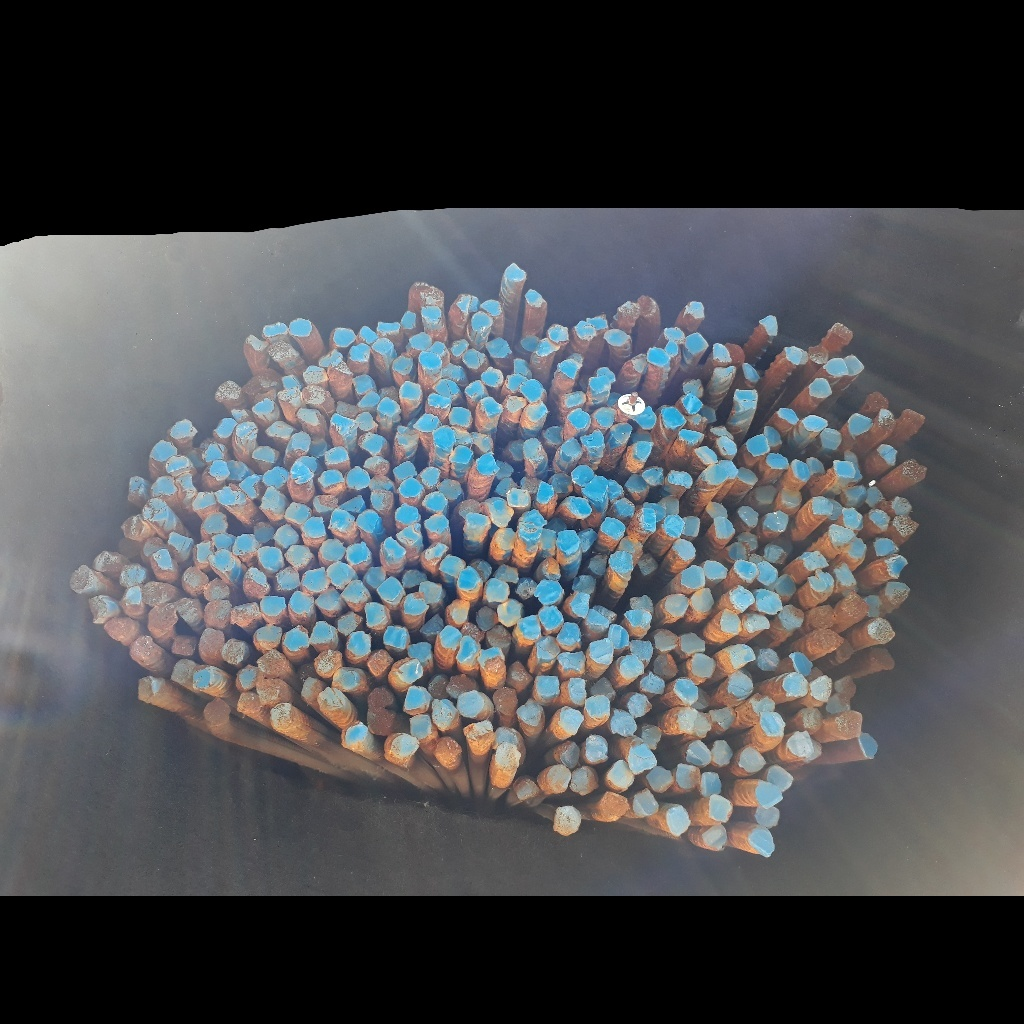dipstick: (464, 720, 495, 754), (244, 368, 281, 396), (88, 594, 121, 623), (364, 707, 396, 736), (665, 804, 692, 838), (627, 745, 658, 774), (434, 737, 462, 769), (432, 698, 459, 731), (552, 805, 581, 835), (181, 566, 210, 596), (242, 566, 270, 597), (93, 549, 124, 577), (205, 598, 232, 630), (203, 696, 232, 725), (708, 792, 735, 823), (176, 598, 207, 625), (103, 616, 137, 640), (167, 531, 195, 560), (748, 828, 775, 858), (608, 760, 635, 790), (552, 741, 582, 768), (403, 685, 430, 715), (507, 661, 533, 692), (120, 586, 146, 617), (835, 709, 863, 737), (866, 618, 895, 645), (754, 781, 783, 808), (282, 626, 311, 653), (313, 651, 343, 677), (142, 581, 175, 604), (842, 592, 869, 620), (633, 789, 660, 817), (363, 601, 390, 629), (326, 362, 354, 389), (568, 769, 597, 795), (257, 650, 286, 676), (326, 561, 356, 586), (149, 549, 174, 579), (625, 472, 649, 503), (647, 766, 674, 793), (456, 691, 483, 718), (150, 603, 177, 630), (69, 564, 96, 591), (755, 589, 783, 615), (478, 647, 506, 673), (343, 578, 369, 606), (547, 764, 572, 793), (302, 566, 331, 591), (639, 671, 666, 697), (583, 474, 609, 501), (517, 700, 544, 726), (270, 702, 296, 729), (257, 545, 283, 572), (177, 598, 203, 625), (588, 638, 613, 666), (517, 614, 542, 642), (489, 499, 514, 527), (535, 580, 564, 604), (496, 600, 522, 626), (367, 650, 393, 676), (256, 678, 282, 704), (285, 542, 311, 568), (782, 672, 809, 697), (760, 710, 785, 737), (727, 673, 754, 698), (661, 405, 686, 432), (710, 706, 737, 731), (686, 740, 711, 767), (493, 686, 518, 713), (130, 634, 155, 661), (738, 748, 766, 772), (728, 644, 756, 668), (674, 678, 698, 706), (626, 694, 654, 718), (601, 791, 629, 815), (302, 677, 326, 705), (140, 497, 168, 521), (816, 628, 845, 651), (446, 674, 475, 697), (884, 581, 910, 606), (787, 731, 812, 757), (767, 766, 793, 791), (779, 604, 805, 629), (691, 653, 716, 679), (653, 652, 678, 678), (536, 636, 561, 662), (585, 736, 610, 762), (345, 465, 370, 491), (261, 487, 286, 513), (231, 600, 257, 625), (170, 658, 196, 683), (255, 624, 282, 648), (220, 640, 247, 664), (232, 532, 259, 556), (318, 688, 346, 711), (203, 577, 231, 600), (891, 514, 920, 536), (330, 413, 359, 435), (202, 512, 231, 534), (331, 669, 361, 690), (848, 412, 873, 437), (200, 630, 225, 655), (808, 570, 834, 594), (599, 515, 625, 539), (590, 677, 616, 701), (611, 712, 637, 736), (559, 709, 583, 735), (439, 624, 463, 650), (214, 380, 240, 404), (873, 645, 896, 672), (834, 562, 857, 589), (829, 523, 856, 546), (640, 723, 663, 750), (483, 579, 510, 602), (318, 470, 345, 493), (150, 438, 177, 461), (557, 649, 586, 670), (265, 418, 294, 439), (903, 458, 928, 482), (719, 610, 743, 635), (664, 594, 689, 618), (703, 824, 728, 848), (676, 763, 700, 788), (632, 507, 656, 532), (557, 529, 581, 554), (539, 605, 563, 630), (496, 742, 520, 767), (383, 625, 408, 649), (398, 658, 423, 682), (276, 566, 301, 590), (234, 664, 258, 689), (171, 633, 196, 657), (754, 805, 780, 828), (555, 622, 581, 645), (534, 673, 560, 696), (440, 554, 466, 577), (432, 424, 455, 450), (376, 577, 402, 600), (409, 714, 432, 740), (336, 610, 362, 633), (310, 620, 333, 646), (733, 560, 760, 582), (711, 739, 733, 766), (420, 542, 447, 564), (405, 642, 432, 664), (215, 486, 246, 505), (743, 612, 771, 633), (395, 524, 423, 545), (314, 588, 342, 609), (192, 489, 220, 510), (568, 677, 588, 706), (902, 409, 926, 433), (813, 604, 837, 628), (799, 706, 823, 730), (809, 676, 833, 700), (755, 648, 779, 672), (487, 623, 511, 647), (755, 560, 778, 585), (691, 588, 714, 613), (699, 772, 722, 797), (619, 655, 644, 678), (515, 777, 540, 800), (448, 599, 471, 624), (455, 636, 478, 661), (360, 433, 385, 456), (289, 461, 312, 486), (653, 629, 679, 651), (401, 593, 427, 615), (288, 591, 314, 613), (136, 675, 158, 701), (825, 694, 852, 715), (858, 732, 879, 759), (840, 486, 867, 507), (763, 511, 790, 532), (679, 633, 706, 654), (484, 337, 511, 358), (328, 511, 355, 532), (150, 475, 177, 496), (166, 453, 193, 474), (262, 467, 290, 487), (833, 675, 857, 698), (662, 514, 686, 537), (681, 566, 705, 589), (609, 421, 632, 445), (470, 429, 494, 452), (457, 566, 480, 590), (370, 488, 394, 511), (383, 537, 407, 560), (321, 538, 345, 561), (362, 456, 391, 475), (684, 333, 709, 355), (703, 559, 728, 581), (609, 551, 634, 573), (580, 429, 605, 451), (584, 695, 609, 717), (477, 606, 499, 631), (479, 395, 504, 417), (423, 513, 448, 535), (275, 524, 300, 546), (676, 707, 697, 733), (570, 592, 591, 618), (666, 469, 693, 489), (392, 734, 419, 754), (367, 686, 394, 706), (312, 493, 339, 513), (252, 397, 279, 417), (625, 608, 653, 627), (343, 544, 371, 563), (841, 508, 864, 531), (774, 575, 797, 598), (731, 586, 754, 609), (736, 506, 759, 529), (634, 407, 657, 430), (476, 453, 499, 476), (520, 378, 543, 401), (357, 509, 380, 532), (237, 690, 260, 713), (745, 435, 769, 457), (674, 538, 696, 562), (568, 496, 592, 518), (607, 624, 629, 648), (420, 614, 444, 636), (418, 581, 442, 603), (395, 424, 417, 448), (285, 501, 309, 523), (210, 548, 234, 570), (703, 464, 728, 485), (628, 639, 653, 660), (460, 623, 485, 644), (353, 411, 378, 432), (347, 632, 368, 657), (202, 440, 227, 461), (417, 351, 443, 371), (260, 595, 286, 615), (269, 341, 295, 361), (625, 446, 644, 473), (515, 576, 537, 599), (506, 487, 529, 509), (304, 515, 327, 537), (122, 515, 144, 538), (592, 407, 616, 428), (576, 527, 597, 551), (584, 608, 608, 629), (494, 727, 518, 748), (480, 367, 504, 388), (240, 474, 261, 498), (144, 537, 165, 561), (750, 695, 775, 715), (447, 407, 472, 427), (423, 492, 448, 512), (803, 552, 829, 571), (520, 510, 546, 529), (432, 378, 459, 396), (170, 419, 197, 437), (737, 531, 759, 553), (215, 416, 237, 438), (867, 392, 890, 413), (868, 509, 889, 532), (887, 555, 908, 578), (809, 377, 832, 398), (792, 652, 813, 675), (763, 543, 786, 564), (713, 516, 734, 539), (395, 503, 418, 524), (291, 432, 312, 455), (209, 457, 230, 480), (194, 665, 215, 688), (874, 537, 898, 557), (615, 397, 635, 421), (494, 564, 518, 584), (442, 365, 466, 385), (437, 479, 461, 499), (428, 675, 448, 699), (420, 286, 444, 306), (339, 494, 363, 514), (126, 476, 146, 500), (177, 474, 197, 498), (847, 535, 866, 560), (414, 413, 439, 432), (401, 568, 427, 586), (821, 428, 842, 450), (843, 355, 864, 377), (638, 553, 659, 575), (420, 465, 441, 487), (811, 495, 834, 515), (694, 445, 717, 465), (621, 536, 644, 556), (637, 294, 657, 317), (567, 409, 590, 429), (571, 465, 594, 485), (588, 553, 608, 576), (558, 358, 581, 378), (377, 397, 400, 417), (254, 520, 274, 543), (367, 474, 394, 491), (832, 460, 856, 479), (824, 358, 848, 377), (594, 603, 618, 622), (397, 478, 421, 497), (301, 384, 325, 403), (296, 407, 320, 426), (536, 339, 561, 357), (303, 366, 328, 384), (324, 446, 349, 464), (802, 415, 828, 432), (602, 328, 628, 345), (464, 512, 490, 529), (681, 515, 702, 536), (633, 441, 654, 462), (525, 401, 546, 422), (353, 374, 374, 395), (365, 566, 386, 587), (878, 443, 898, 465), (691, 687, 711, 709), (642, 467, 664, 487), (618, 301, 638, 323), (551, 472, 573, 492), (523, 438, 543, 460), (345, 723, 367, 743), (864, 593, 883, 616), (759, 314, 778, 337), (754, 486, 777, 505), (643, 502, 666, 521), (449, 445, 472, 464), (225, 460, 248, 479), (185, 449, 208, 468), (289, 318, 313, 336), (709, 426, 734, 443), (695, 712, 712, 737), (778, 406, 798, 427), (762, 426, 782, 447), (716, 436, 737, 456), (741, 362, 761, 383), (711, 344, 732, 364), (495, 529, 516, 549), (451, 425, 472, 445), (420, 304, 441, 324), (831, 322, 853, 341), (806, 345, 828, 364), (791, 459, 810, 481), (682, 378, 704, 397), (681, 394, 703, 413), (518, 476, 540, 495), (493, 459, 515, 478), (463, 350, 485, 369), (400, 381, 422, 400), (348, 342, 370, 361), (357, 390, 379, 409), (279, 388, 301, 407), (246, 334, 268, 353), (878, 408, 896, 431), (572, 575, 595, 593), (391, 355, 414, 373), (333, 327, 356, 345), (252, 445, 275, 463), (235, 421, 258, 439), (766, 452, 790, 469), (647, 348, 671, 365), (393, 462, 417, 479), (319, 350, 343, 367), (726, 342, 746, 362), (630, 594, 655, 610), (562, 391, 587, 407), (685, 301, 706, 320), (548, 325, 569, 344), (835, 638, 853, 660), (781, 488, 803, 506), (705, 501, 727, 519), (663, 325, 685, 343), (605, 478, 623, 500), (471, 560, 493, 578), (471, 312, 493, 330), (409, 331, 431, 349), (372, 337, 394, 355), (213, 531, 235, 549), (195, 540, 213, 562), (891, 498, 914, 515), (536, 480, 553, 503), (495, 478, 518, 495), (449, 336, 468, 356), (119, 537, 139, 556), (726, 542, 747, 560), (660, 496, 681, 514), (589, 375, 610, 393), (544, 425, 562, 446), (262, 322, 287, 337), (686, 414, 708, 431), (539, 527, 556, 549), (335, 401, 358, 417), (733, 389, 759, 403), (679, 429, 705, 443), (783, 346, 802, 365), (719, 460, 738, 479), (541, 559, 560, 578), (308, 438, 327, 457), (630, 353, 648, 373), (466, 379, 484, 399), (826, 499, 843, 520), (737, 468, 758, 485), (459, 500, 480, 517), (505, 374, 526, 391), (514, 521, 539, 535), (377, 320, 402, 334), (509, 438, 524, 461), (428, 394, 451, 409), (229, 407, 252, 422), (505, 263, 525, 280), (458, 295, 478, 312), (297, 456, 317, 473), (805, 457, 823, 475), (775, 537, 794, 554), (525, 290, 542, 309), (361, 326, 378, 345), (809, 738, 823, 761), (597, 367, 617, 383), (866, 488, 883, 506), (427, 341, 446, 357), (506, 395, 526, 410), (480, 300, 500, 315), (712, 366, 737, 377), (700, 405, 716, 422), (513, 359, 530, 375), (402, 310, 417, 328), (547, 518, 567, 531), (380, 386, 398, 399), (843, 450, 857, 466), (282, 375, 300, 387), (664, 341, 678, 355)
